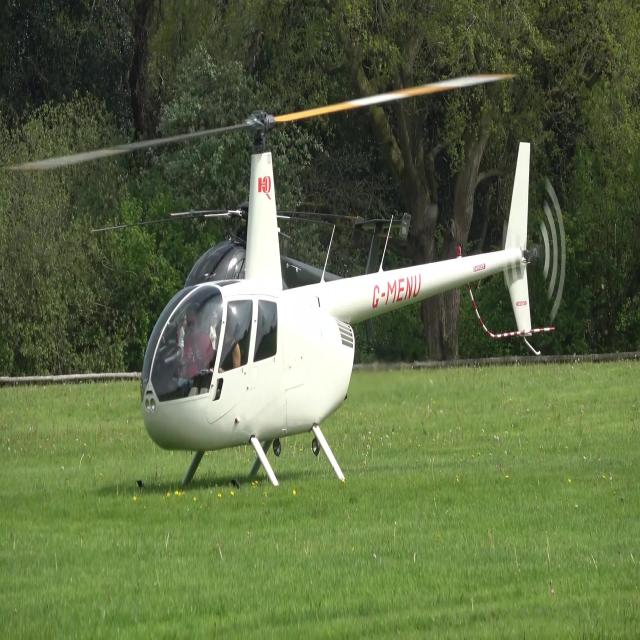CIV_HELO: (137, 105, 537, 514)
